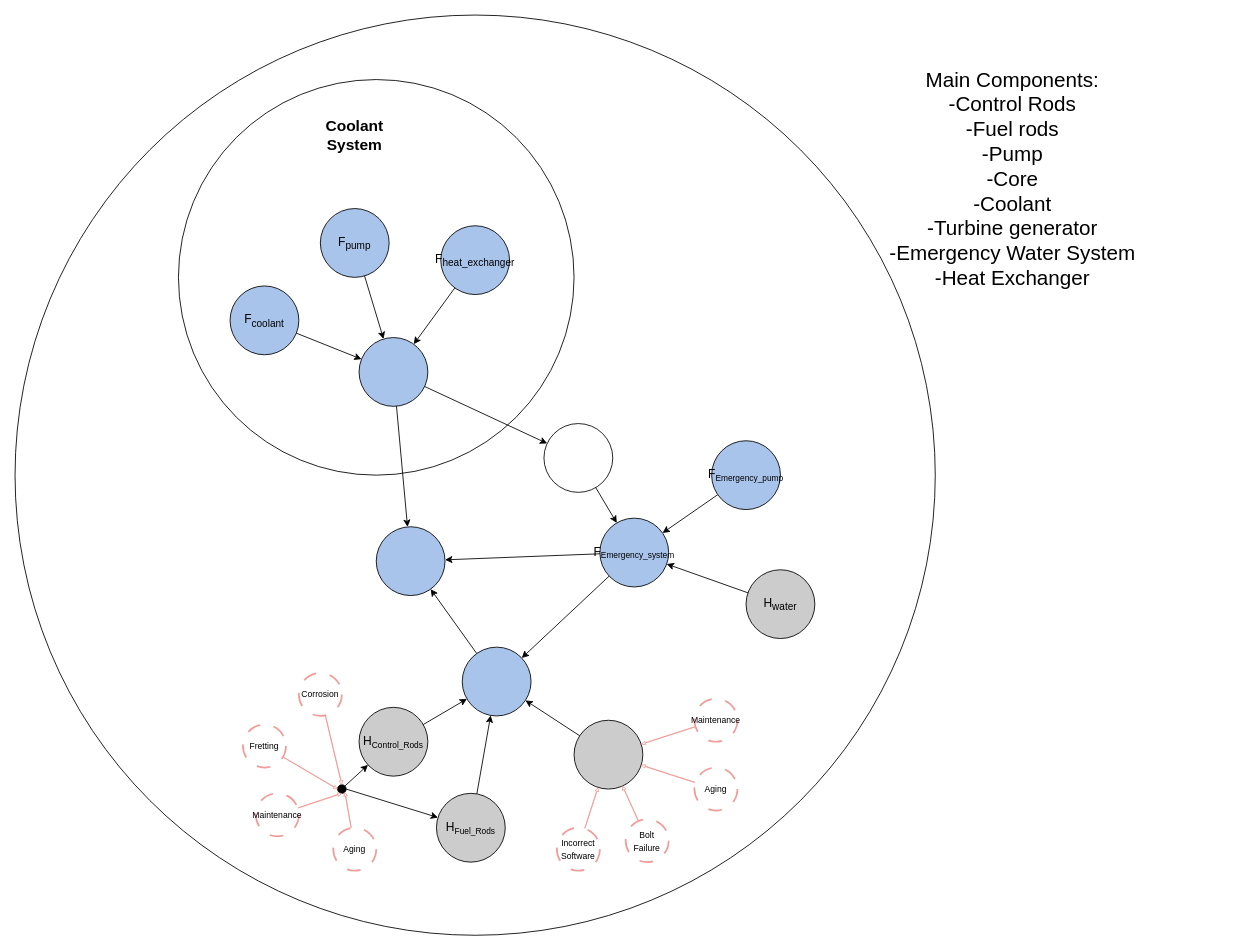
Image size: 1251x950. Some labels were removed from this diagram. Each missing label, with the centre of its shape:
F coolant_system: point 393,371
F core: point 496,681
F Nuclear_Reactor: point 410,561
H Injection_motor: point 608,754
V emergency_state: point 578,457
